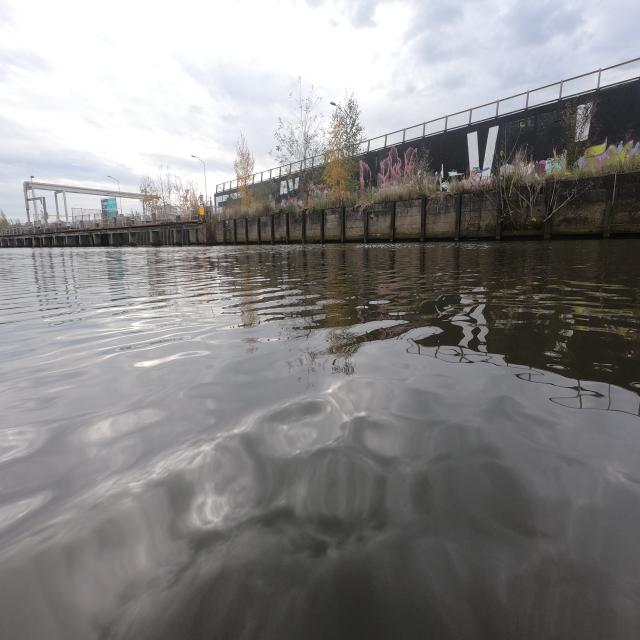sky: (12, 4, 636, 188)
wall: (192, 172, 634, 240)
water: (0, 239, 640, 640)
